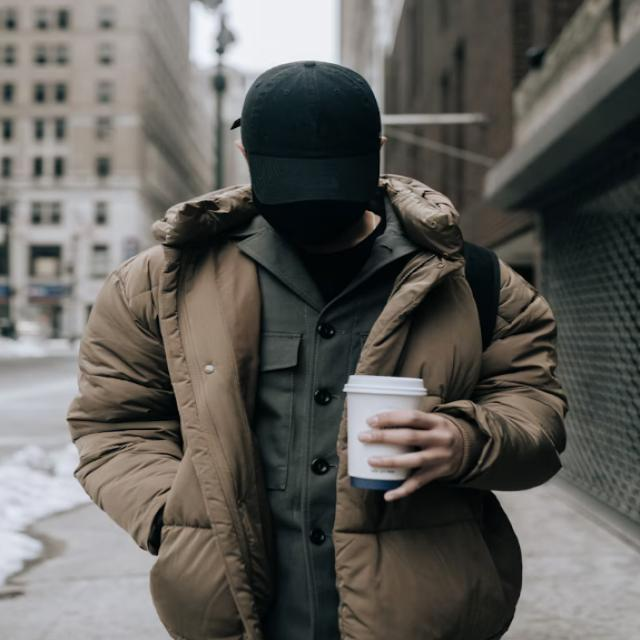Gorra: (228, 56, 388, 222)
